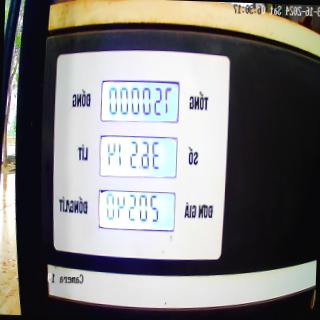screen: (95, 75, 182, 237)
